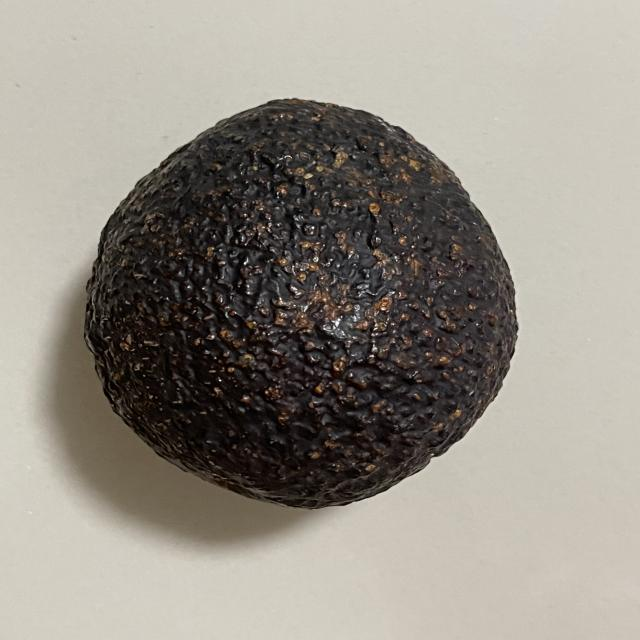Level3: (76, 88, 534, 516)
